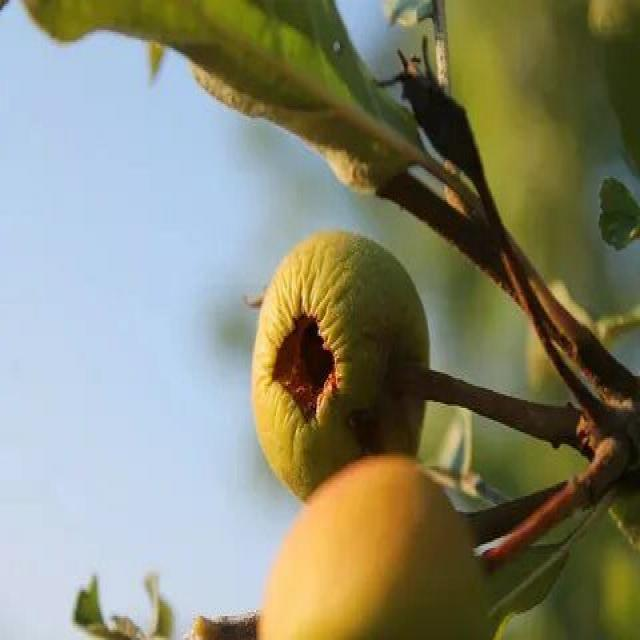Rotten: (244, 230, 442, 478)
